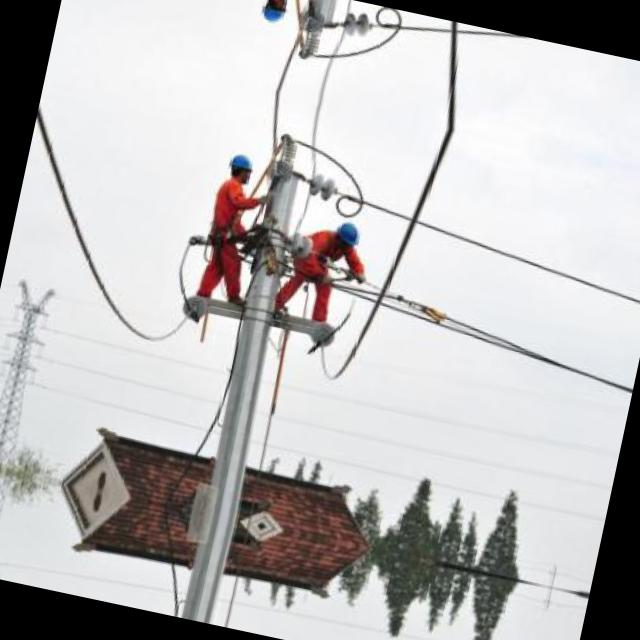helmet: (225, 150, 260, 186), (328, 214, 362, 250), (259, 0, 294, 26)
